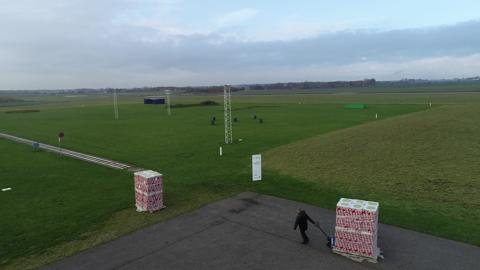RockwoolPallet: (133, 171, 165, 214)
